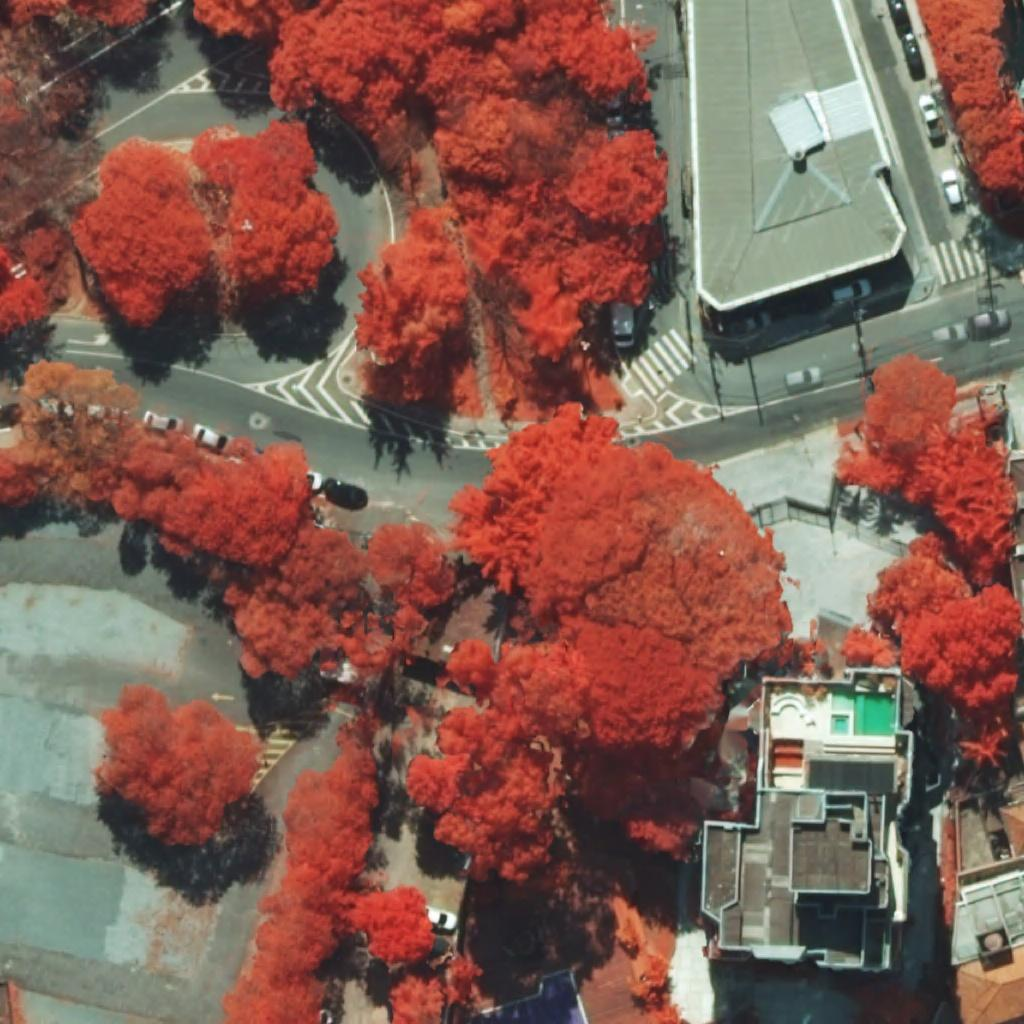pool: (472, 971, 585, 1024), (854, 692, 896, 736), (830, 715, 849, 735)
